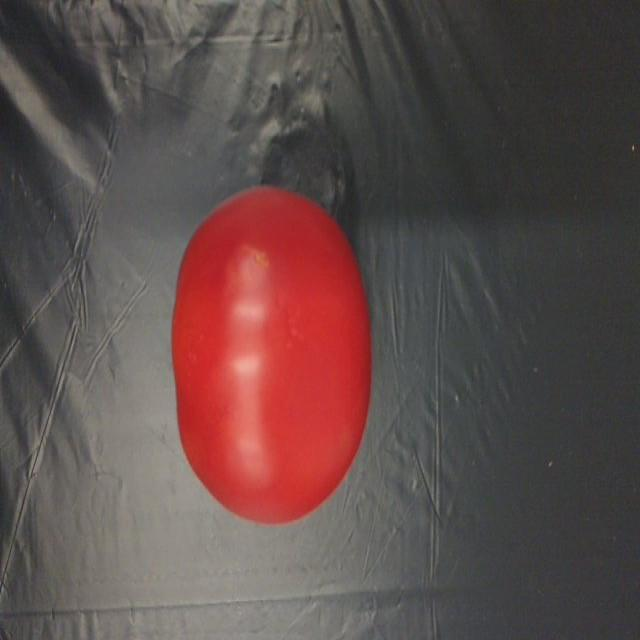kirmizi: (162, 177, 372, 537)
